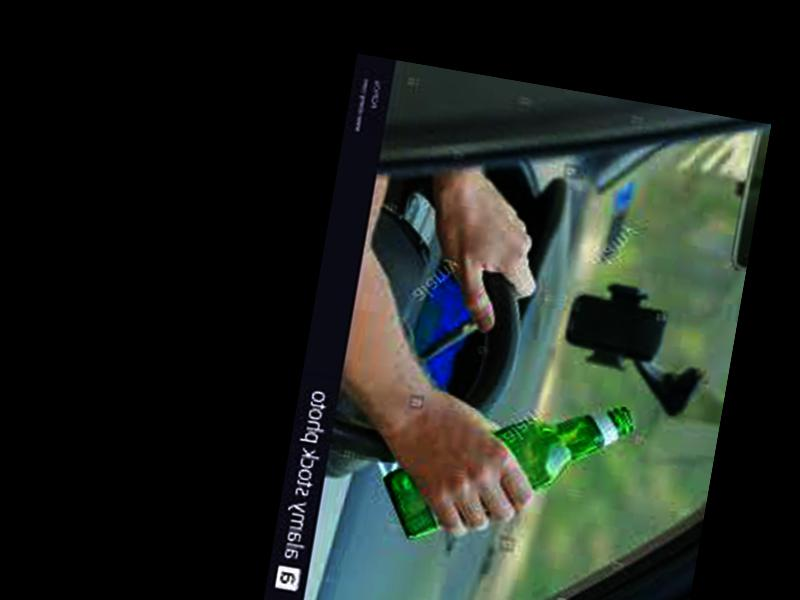Beer: (373, 370, 633, 566)
